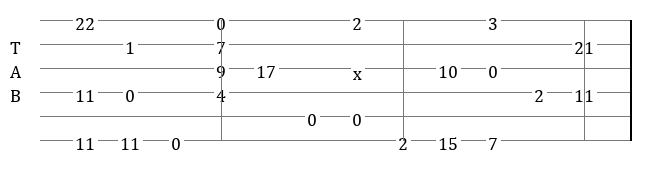0: (125, 84, 139, 100), (171, 132, 185, 148), (216, 12, 230, 28), (307, 108, 321, 124), (352, 108, 366, 124), (488, 60, 502, 76)
1: (125, 36, 139, 52)
10: (438, 60, 462, 76)
11: (75, 84, 99, 100), (75, 132, 99, 148), (120, 132, 144, 148), (574, 84, 598, 100)
15: (438, 132, 462, 149)
17: (256, 60, 280, 77)
2: (352, 12, 366, 28), (398, 132, 412, 148), (534, 84, 548, 100)
21: (574, 36, 598, 52)
22: (75, 12, 99, 28)
3: (488, 12, 502, 28)
4: (216, 84, 230, 100)
7: (216, 36, 230, 53), (488, 132, 502, 149)
9: (216, 60, 230, 76)
x: (353, 62, 366, 75)
